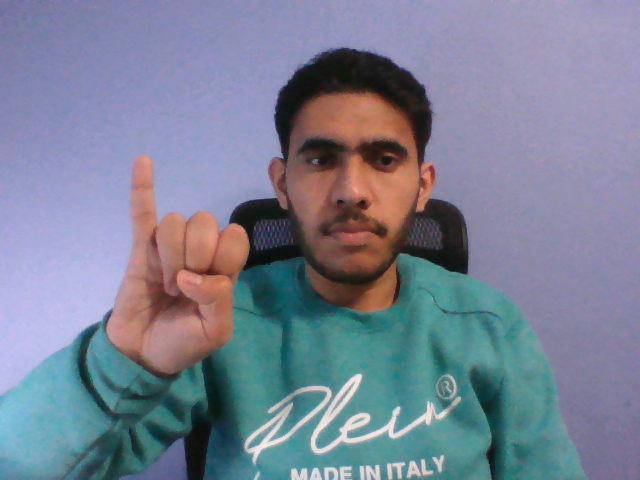I: (111, 147, 258, 393)
